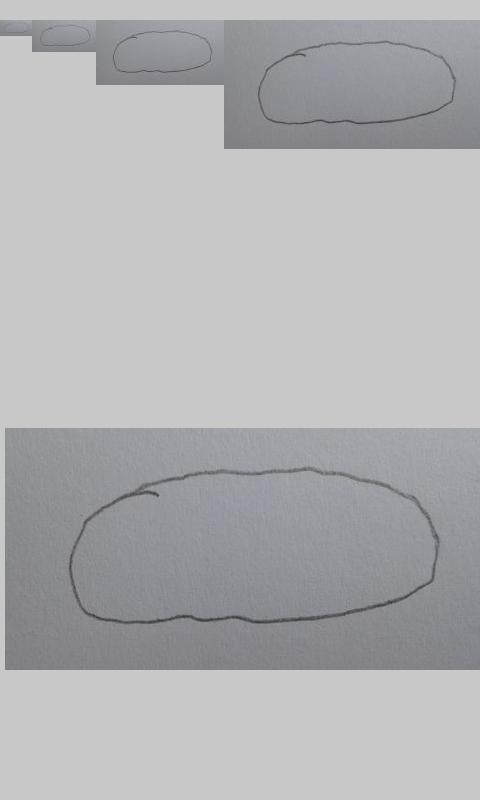chip: (66, 466, 441, 627), (257, 40, 457, 127), (112, 30, 213, 74), (40, 25, 91, 47), (2, 22, 31, 34)
